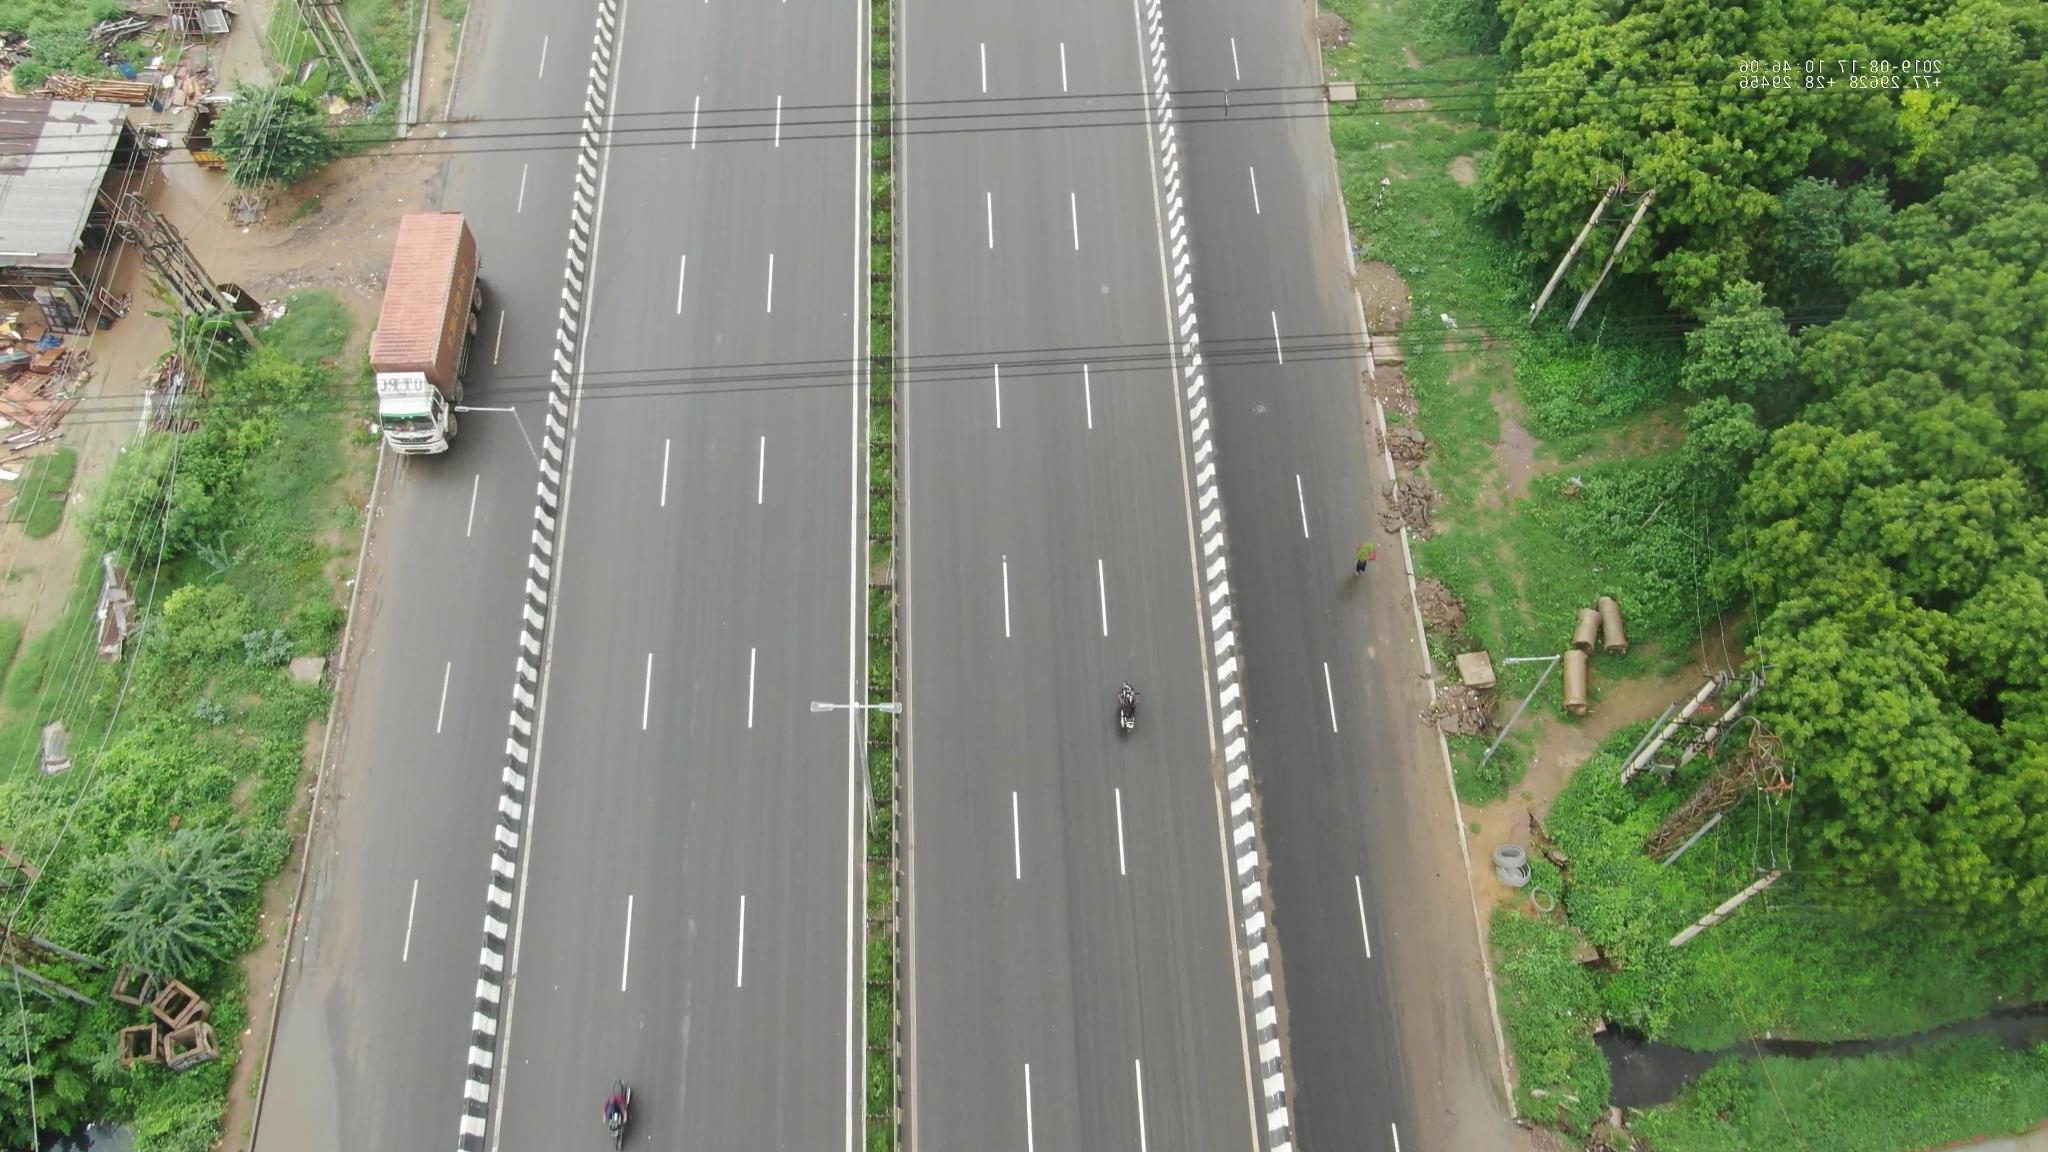Muddy_road: (1402, 859, 1497, 1031)
